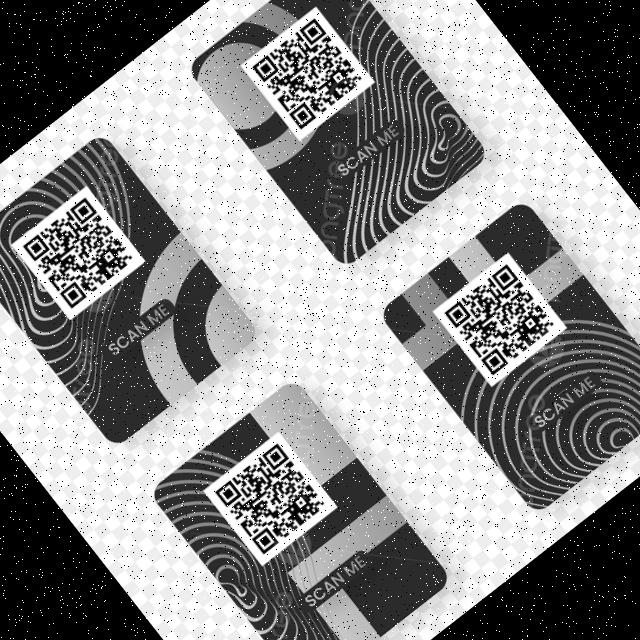QR-codes: (250, 12, 368, 130), (442, 259, 560, 376), (22, 192, 138, 308), (214, 440, 330, 556)
